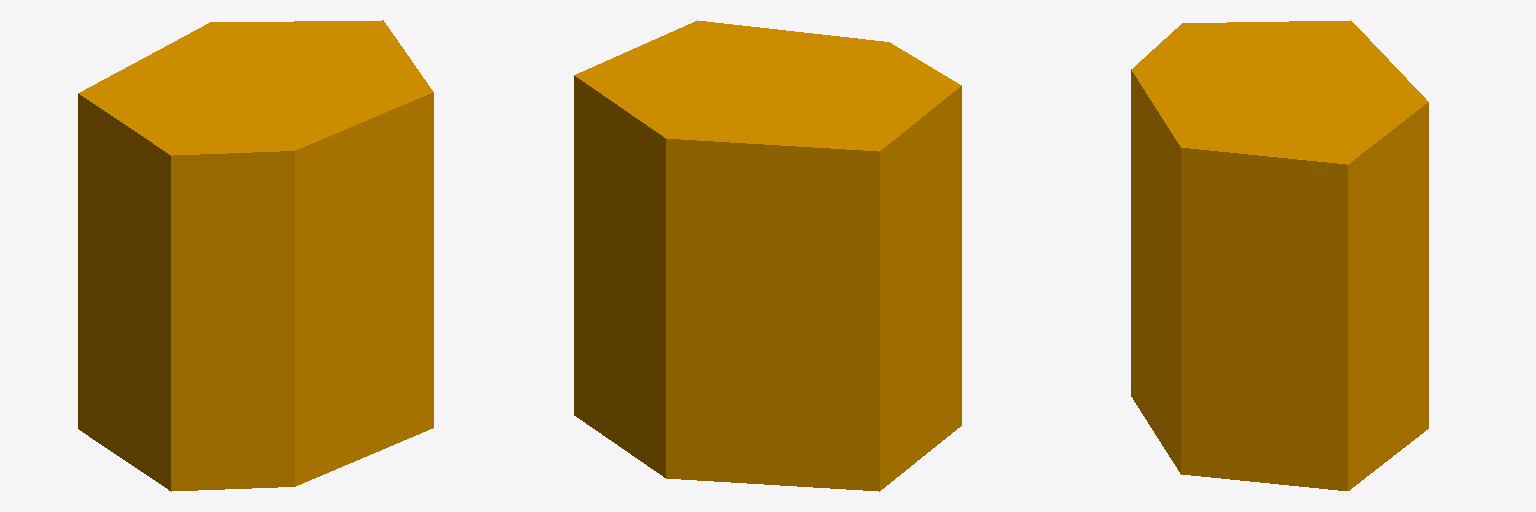
robot.urdf — object:
<?xml version="1.0"?>
<robot name="object">
  <link name="object">
    <visual>
      <origin xyz="0 0 0"/>
      <geometry>
        <mesh filename="meshes/generated/col_031.obj" scale="0.03 0.03 0.03"/>
      </geometry>
    </visual>
    <collision>
      <origin xyz="0 0 0"/>
      <geometry>
        <mesh filename="meshes/generated/col_031.obj" scale="0.03 0.03 0.03"/>
      </geometry>
    </collision>
    <inertial>
      <density value="1000.0"/>
    </inertial>
  </link>
</robot>

--- Facts derived from the render (not from the file) ---
Views: 3 orthographic renders of the robot side by side, from view 1: azimuth 30°, elevation 25°; view 2: azimuth 150°, elevation 25°; view 3: azimuth 270°, elevation 25°.
Model object with 1 links and 0 joints (none), rooted at object, posed all joints at 0.
Links seen in each view (by area): view 1: object; view 2: object; view 3: object.
Link boxes in pixels (x1,y1,x2,y2): object: (78, 20, 433, 491); object: (574, 20, 961, 491); object: (1131, 20, 1428, 490).
Bounding box of the posed robot: 0.0568 × 0.0495 × 0.06 m (x, y, z).
1 mesh visuals loaded from 1 distinct referenced files (1 OBJ).
